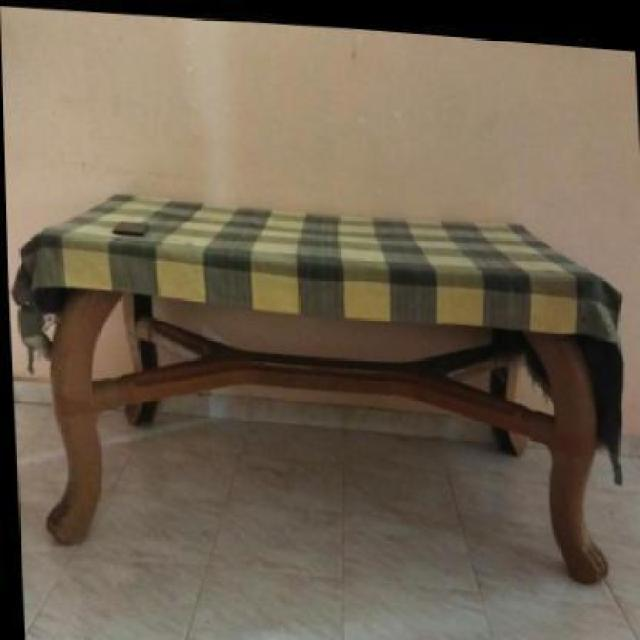tables: (12, 190, 625, 584)
